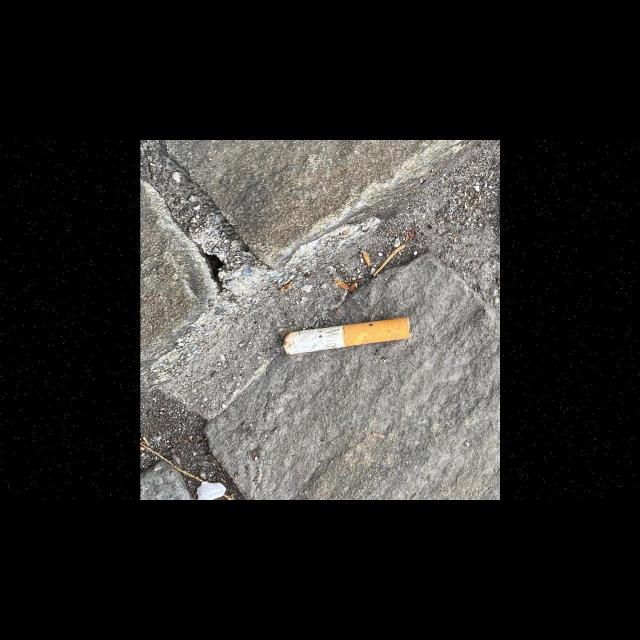cigarette: (281, 316, 410, 356)
